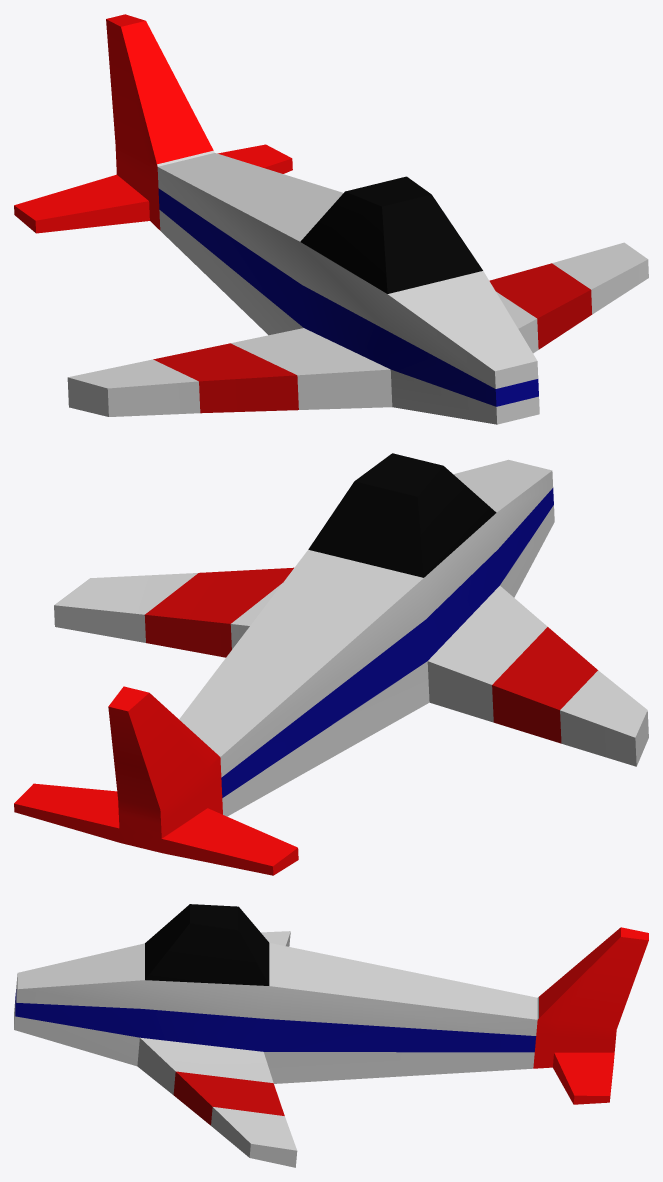
Rendered from Metal plane 1.fbx.
The picture shows the model from 3 angles, top to bottom: view 1: azimuth 30°, elevation 25°; view 2: azimuth 150°, elevation 25°; view 3: azimuth 270°, elevation 25°; orthographic projection. The views are drawn at different scales.
Visible parts, largest first — view 1: Metal plane 1; view 2: Metal plane 1; view 3: Metal plane 1.
Boxes of the visible parts, x1=… form: Metal plane 1: x1=14, y1=14, x2=648, y2=424; Metal plane 1: x1=14, y1=453, x2=648, y2=875; Metal plane 1: x1=14, y1=904, x2=648, y2=1167.
Size of the model in its own units: 94.22 by 30.45 by 117.
